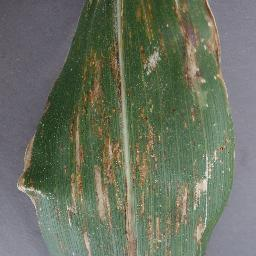Gray_Leaf_Spot: (176, 0, 235, 110), (174, 144, 226, 254), (89, 115, 129, 252), (131, 106, 159, 256), (132, 0, 171, 80), (66, 104, 86, 237), (107, 0, 127, 97), (13, 128, 35, 213), (82, 50, 106, 115), (161, 183, 175, 256), (182, 110, 200, 129)
